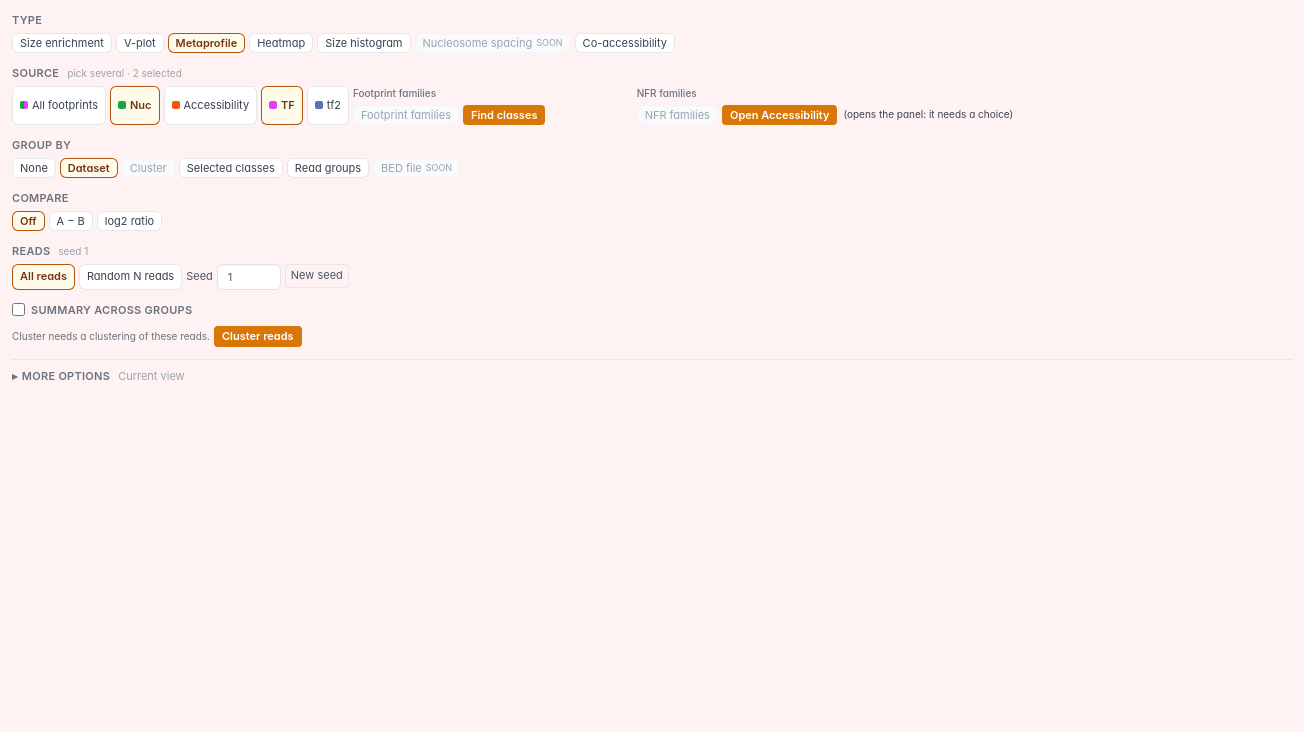
Test: Source chips › several sources: the layout settings appear (panels per group by default, shared y)
Step 1. Click the button "▸ More options Current view" → [66, 376], box [12, 368, 1292, 384]
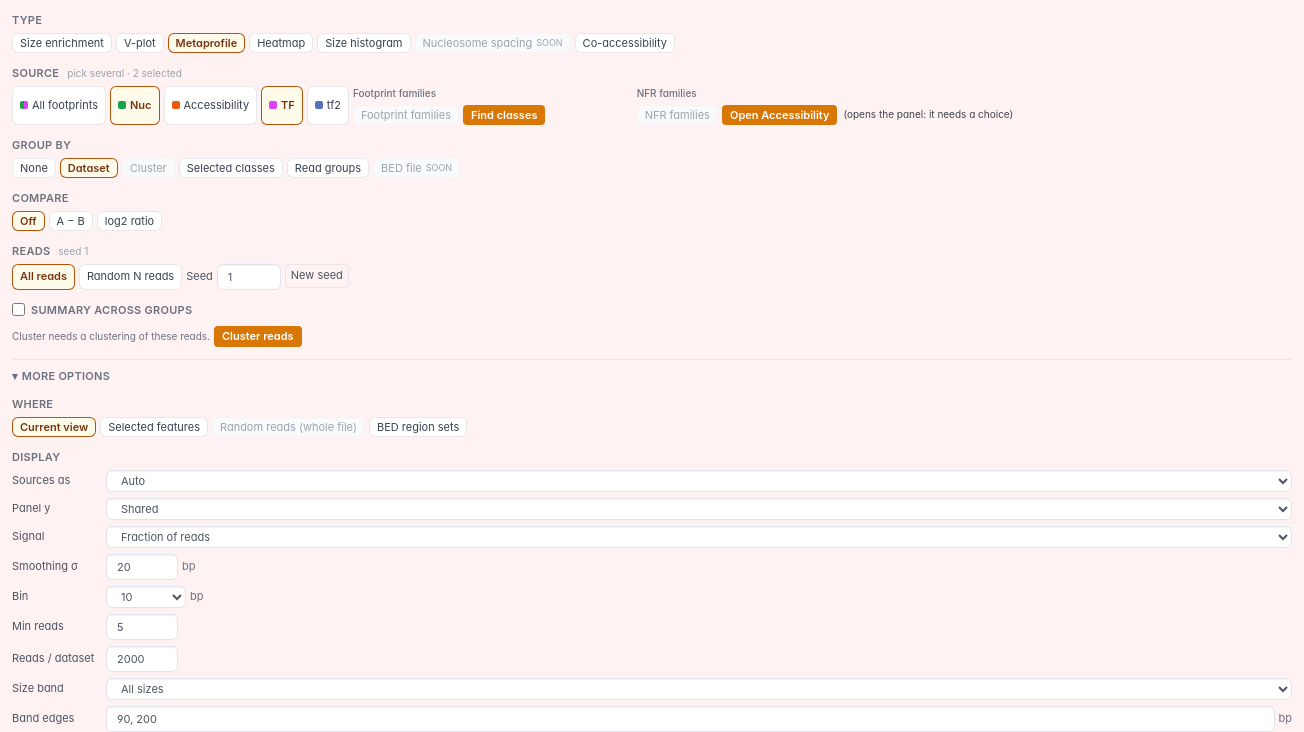
Check: the dropdown labelled "Sources as" shows "Auto", box [106, 470, 1292, 492]
Check: the dropdown labelled "Panel y" shows "Shared", box [106, 498, 1292, 520]
